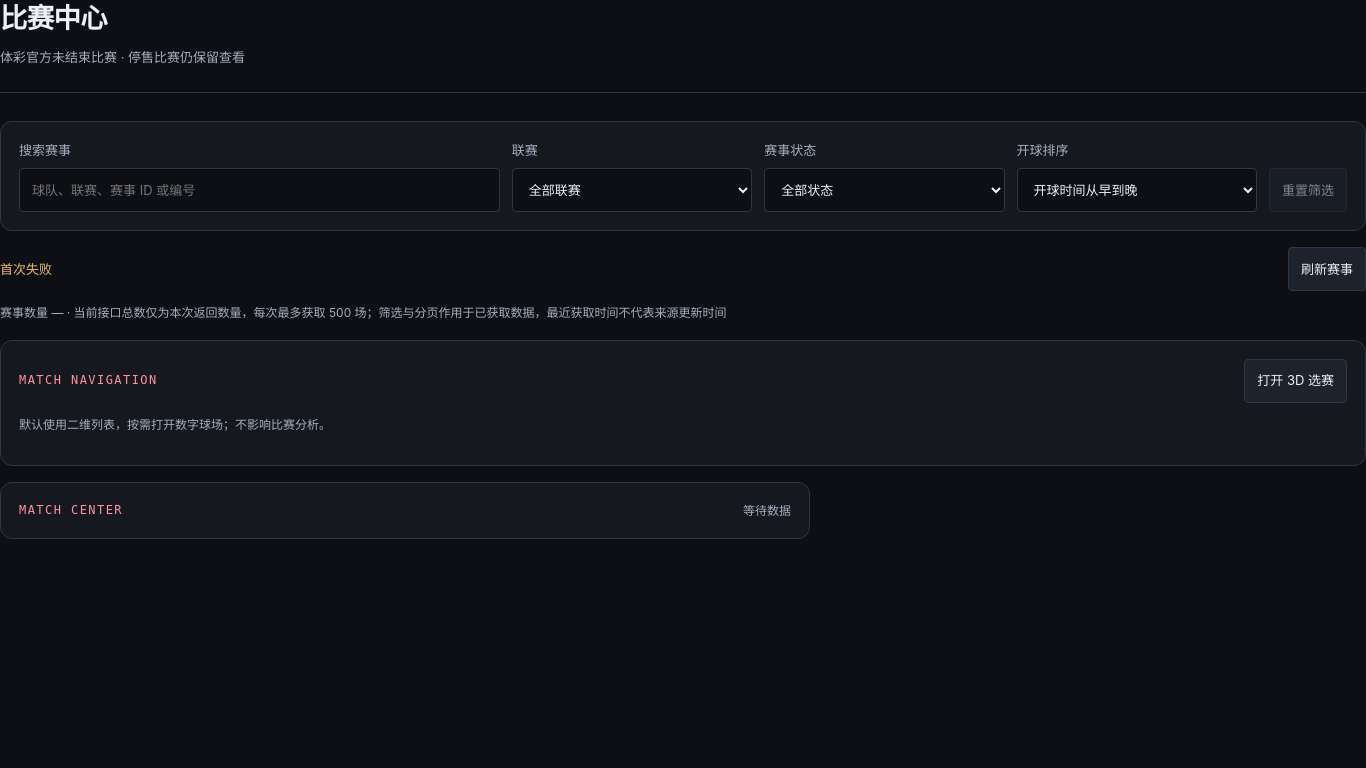
MatchesPage › offers retry for initial error without pretending empty business data
Expected: the text "首次失败" is shown, [0, 261, 52, 277]
Click the button "刷新赛事" at (1327, 269), box [1288, 247, 1365, 291]
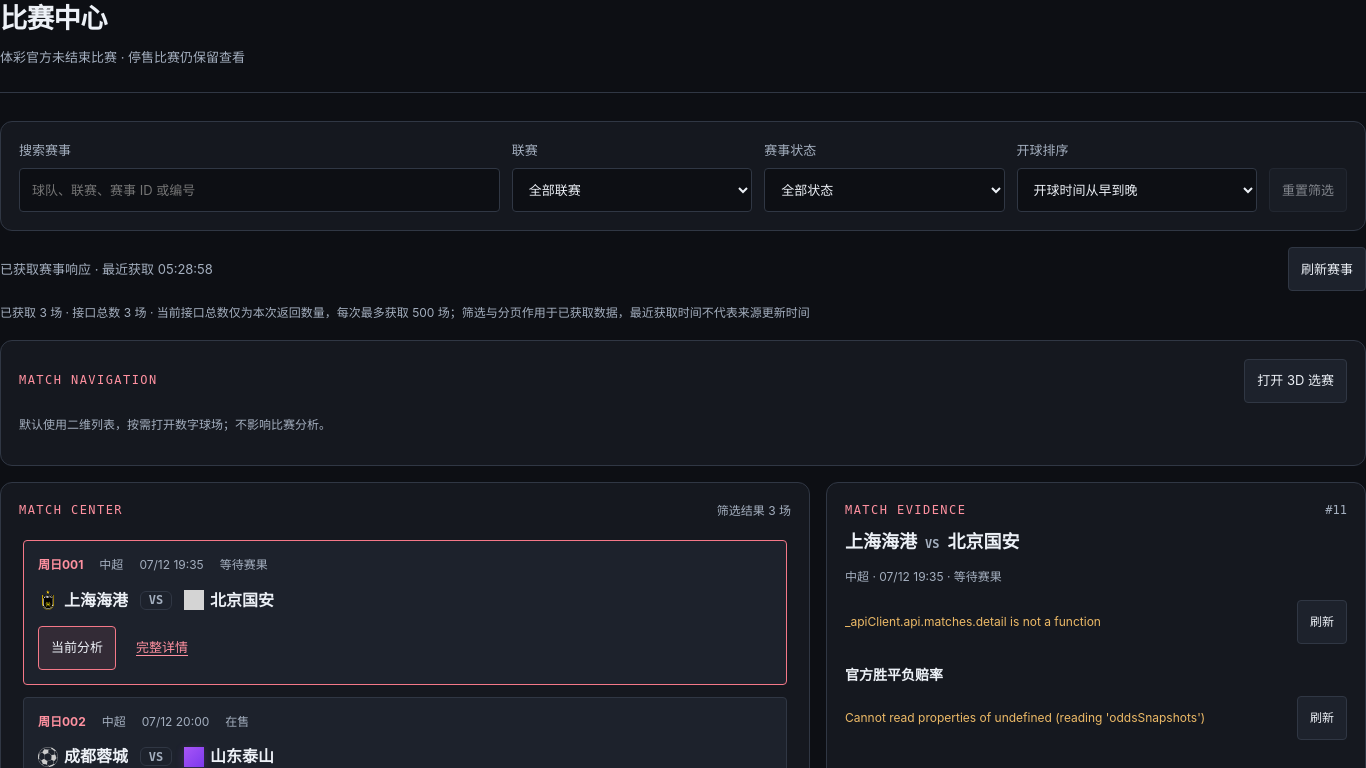
Result: the text "上海海港" is shown at [64, 587, 128, 614]
